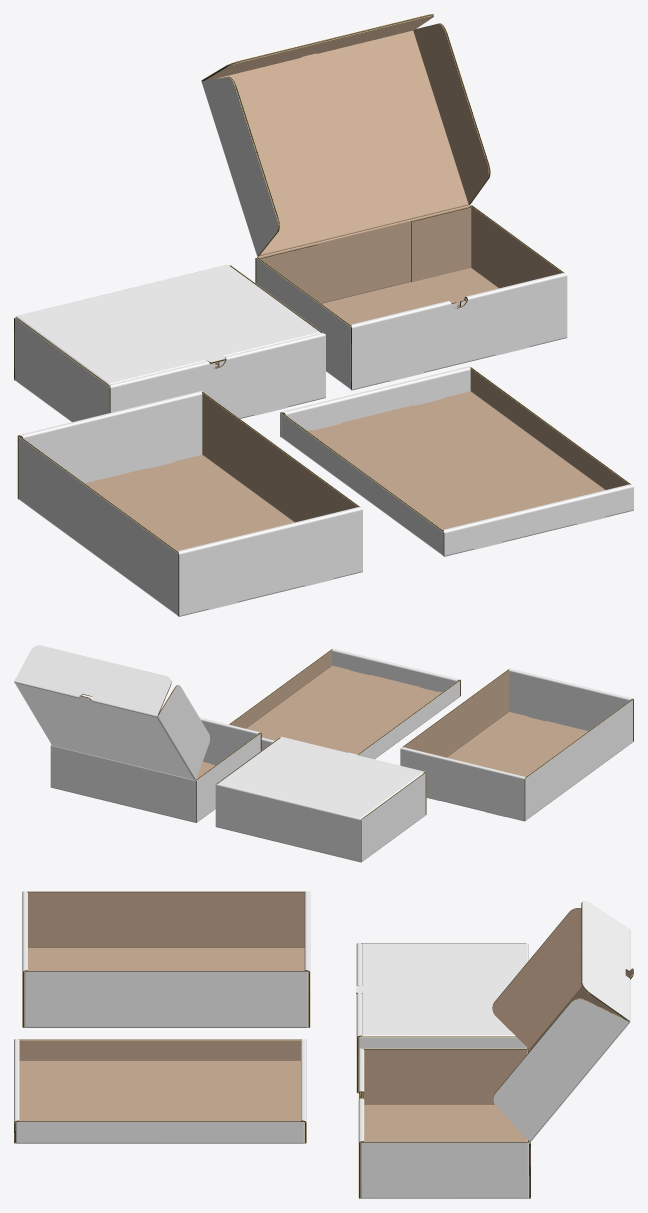
The model's file is 4D DIAZ.gltf.
3 views of the same model, one above another, from view 1: azimuth 30°, elevation 25°; view 2: azimuth 150°, elevation 25°; view 3: azimuth 270°, elevation 25° (orthographic). The views are drawn at different scales.
Visible parts, largest first — view 1: TQ_ARD-node.001, _1L0024_ARD-node, _1P0092_ARD-node, TQ_ARD-node; view 2: TQ_ARD-node.001, _1L0024_ARD-node, TQ_ARD-node, _1P0092_ARD-node; view 3: TQ_ARD-node.001, _1L0024_ARD-node, _1P0092_ARD-node, TQ_ARD-node.
Part boxes in pixels (bbox=[...]): TQ_ARD-node.001: bbox=[201, 14, 567, 390]; _1L0024_ARD-node: bbox=[17, 390, 362, 616]; _1P0092_ARD-node: bbox=[280, 366, 633, 556]; TQ_ARD-node: bbox=[14, 264, 325, 422]; TQ_ARD-node.001: bbox=[14, 645, 261, 822]; _1L0024_ARD-node: bbox=[400, 668, 633, 821]; TQ_ARD-node: bbox=[215, 736, 426, 862]; _1P0092_ARD-node: bbox=[229, 648, 460, 759]; TQ_ARD-node.001: bbox=[358, 901, 633, 1198]; _1L0024_ARD-node: bbox=[22, 891, 310, 1027]; _1P0092_ARD-node: bbox=[14, 1039, 306, 1143]; TQ_ARD-node: bbox=[356, 943, 528, 1093].
Size of the model in its own units: 1.01 by 0.3948 by 1.06.
10 materials, 4 textured.
